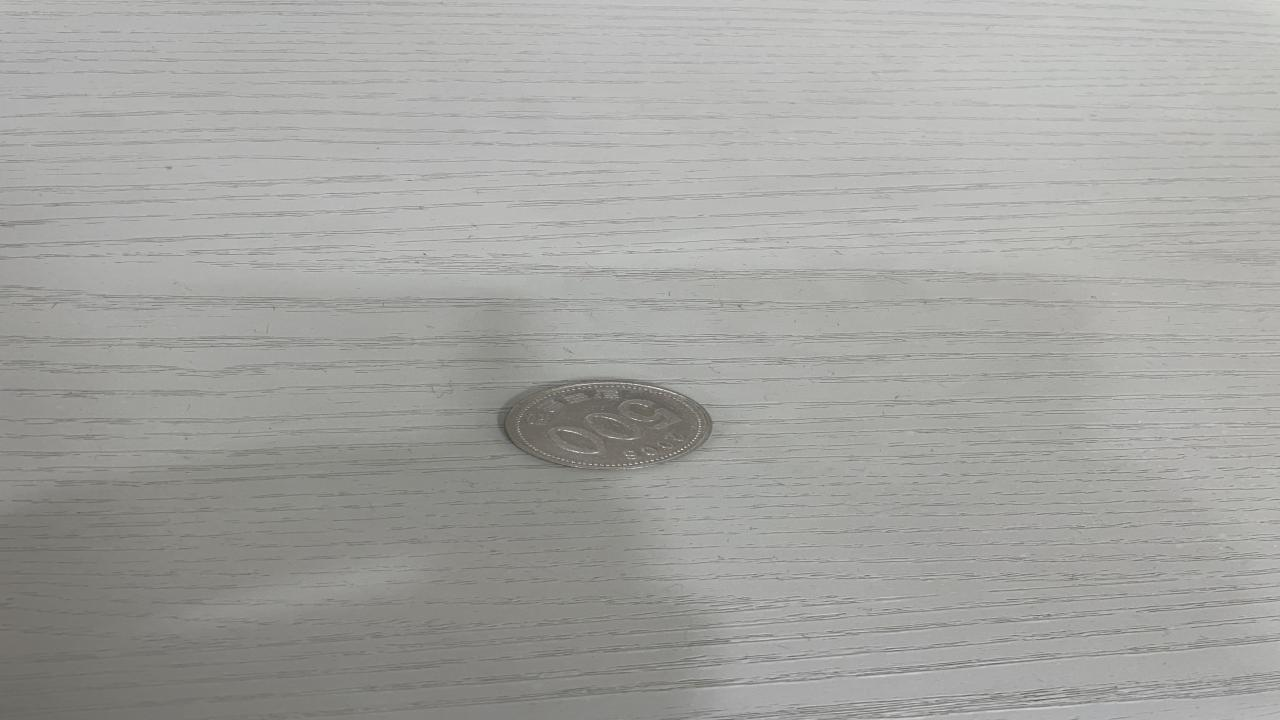coin: (499, 379, 715, 469)
